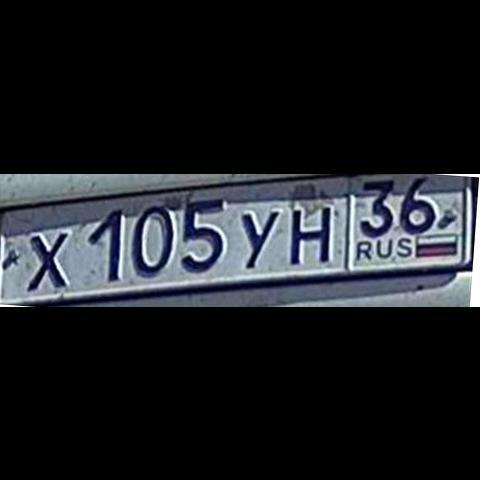license-plateSW: (0, 175, 469, 306)
